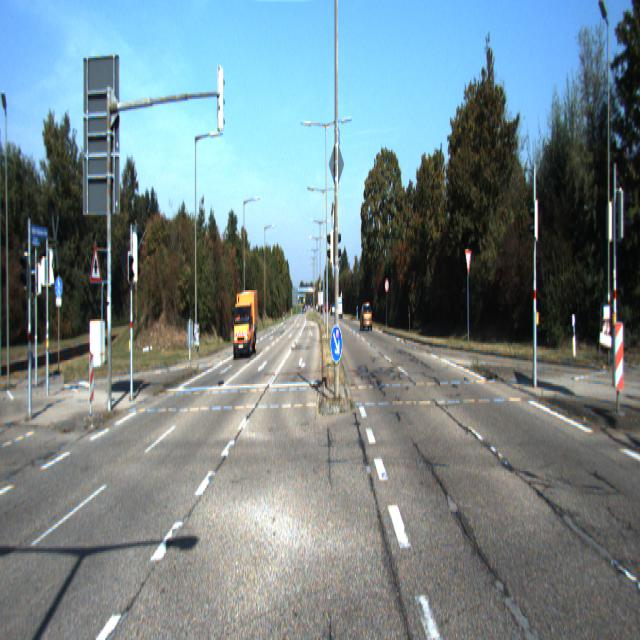Car: (228, 288, 258, 361), (361, 301, 372, 330)
